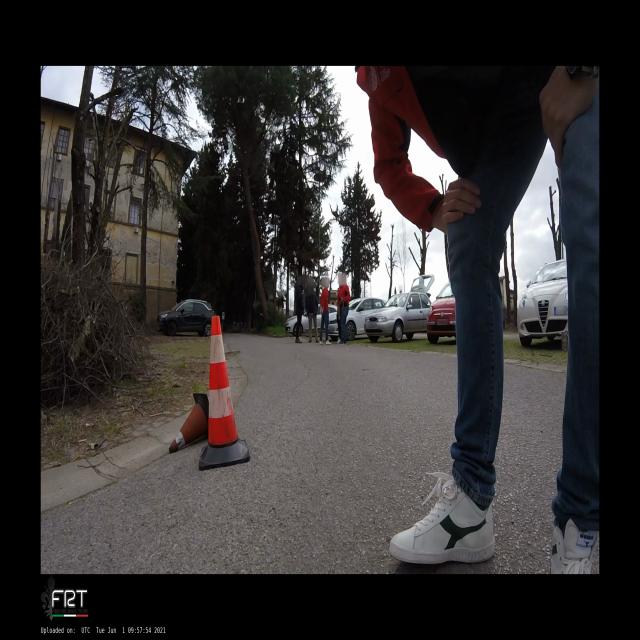large_orange_cone: (200, 316, 250, 470)
unknown_cone: (168, 394, 208, 454)
